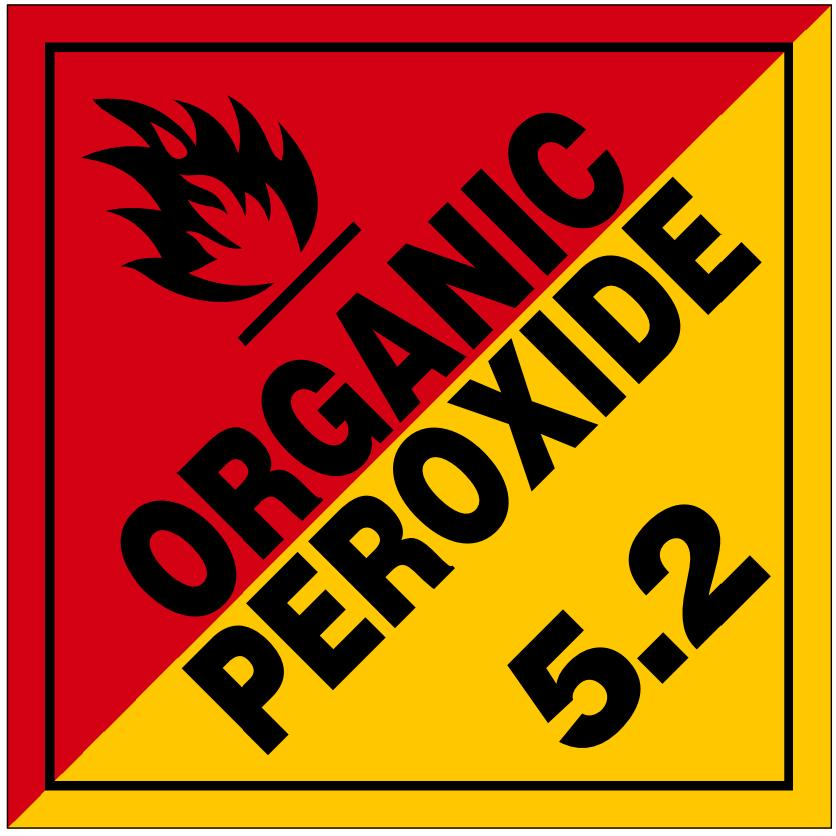organic-peroxide: (1, 1, 836, 830)
